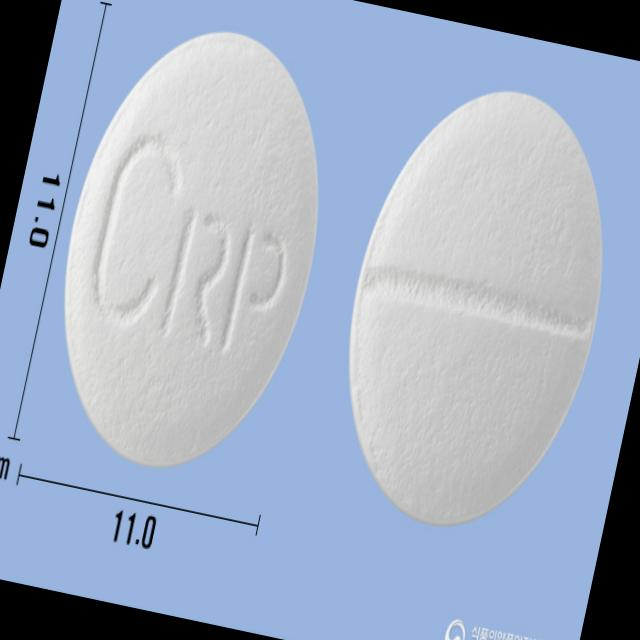Ciropan: (21, 2, 362, 499)
